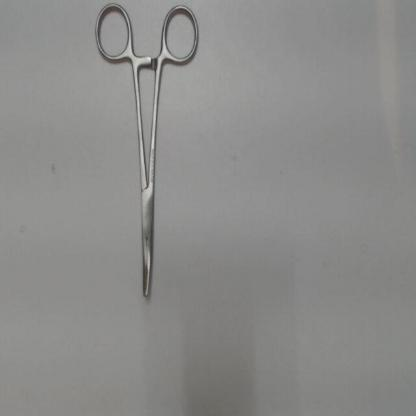Crile Artery Forceps: (91, 1, 202, 304)
